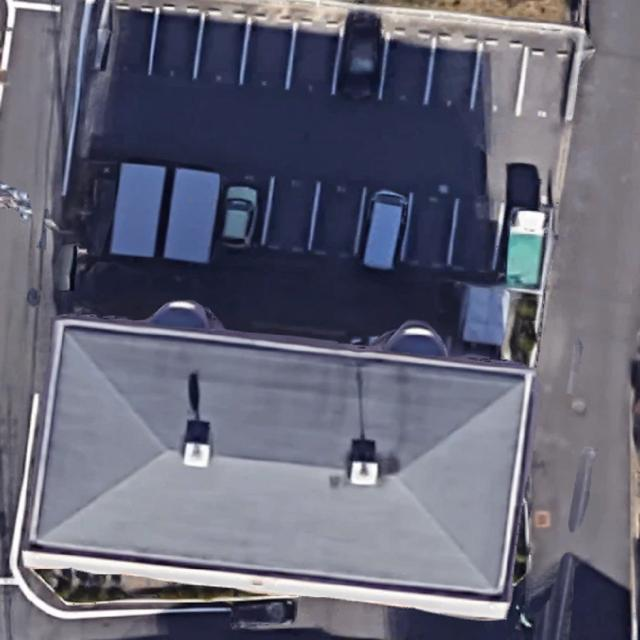Batiment: (36, 325, 527, 594)
